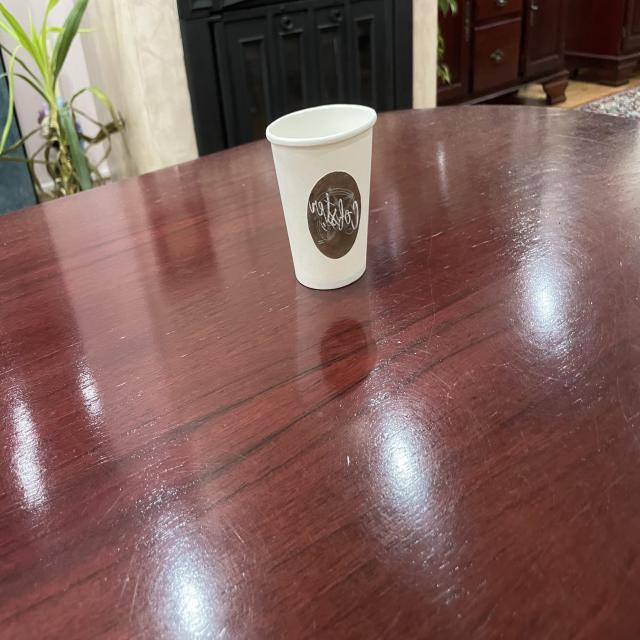medium: (262, 87, 379, 300)
